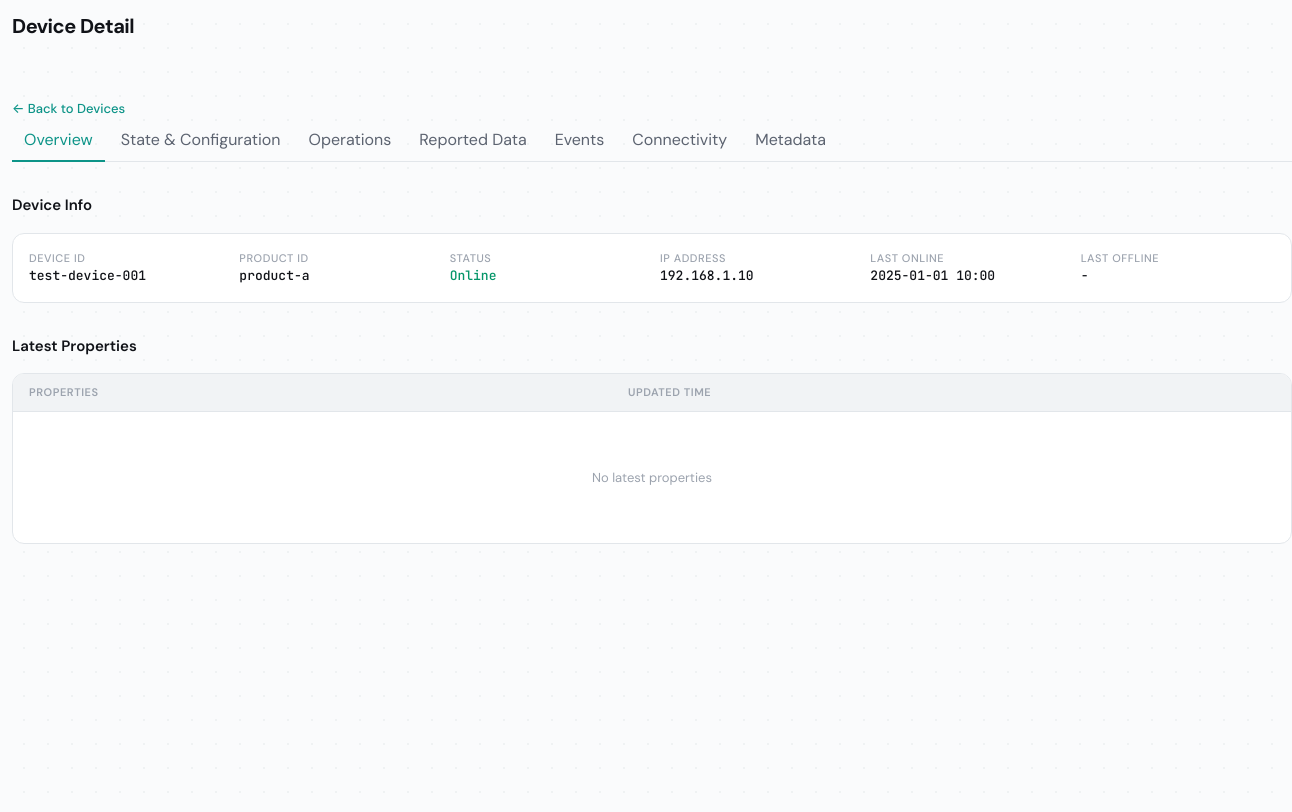
Test case: Factory metadata section › renders device-level metadata content when deviceMetadata is present
Click the tab "Metadata".
click(791, 141)  # box [743,120,838,162]
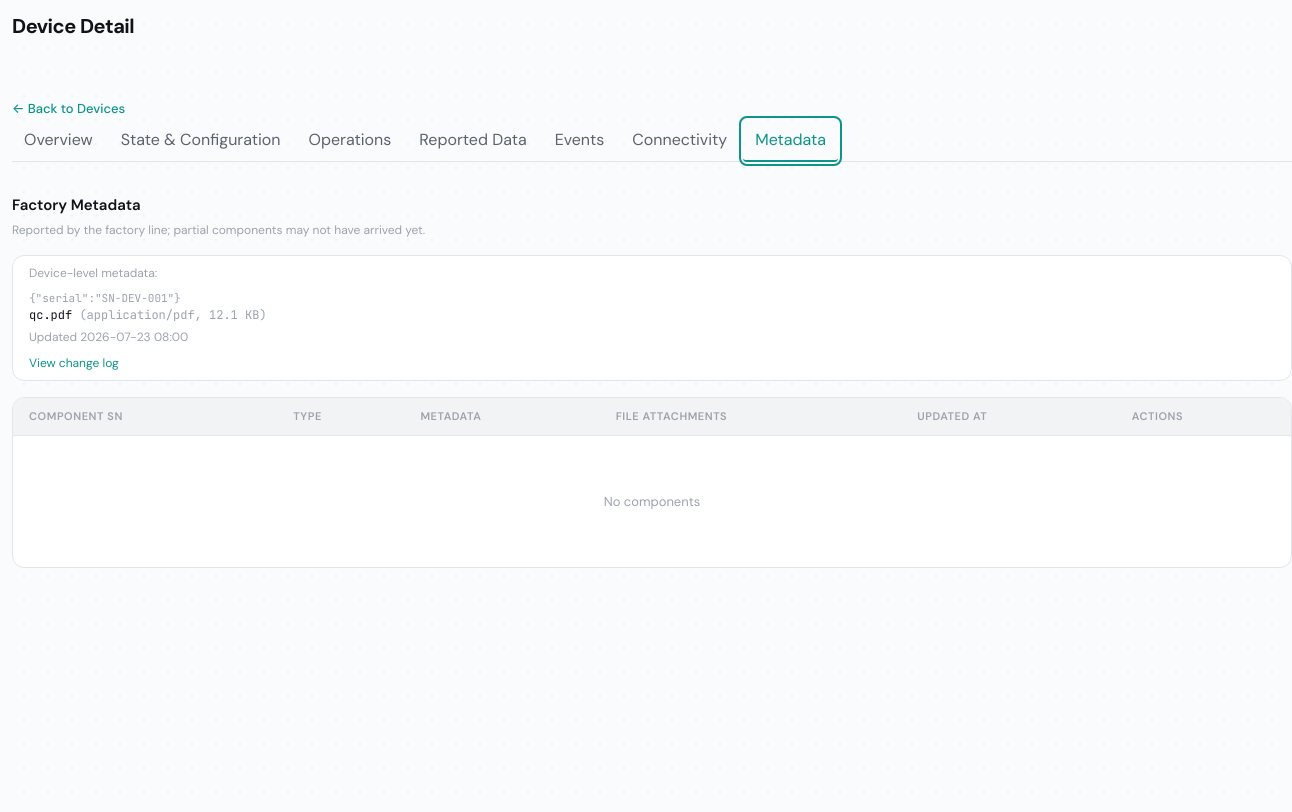
Result: the element with test id "factory-device-metadata-block" shows "SN-DEV-001" at [29,290,181,304]
Result: the element with test id "factory-device-metadata-block" shows "qc.pdf" at [29,307,72,323]
